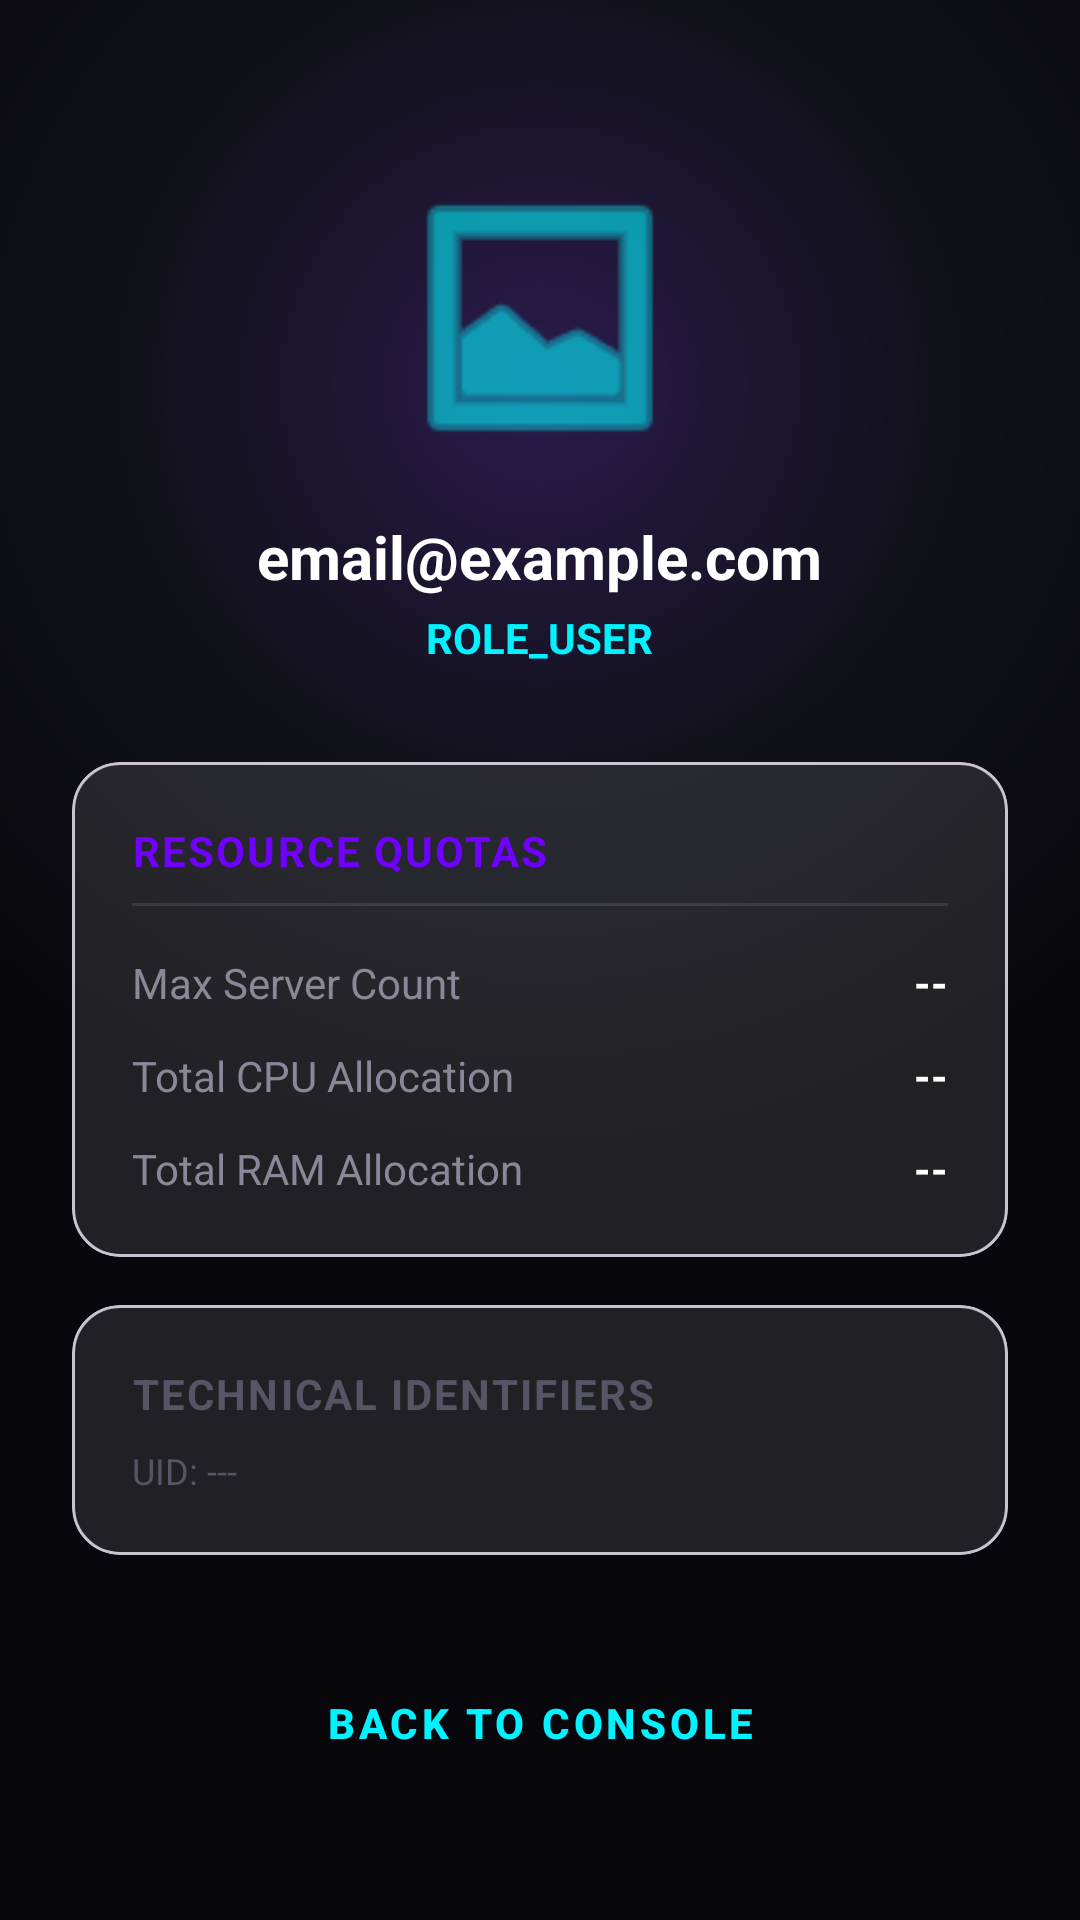

Icon click points for this 1080x1920 phone screenshot, format [x,y]:
gallery: [540,318]
